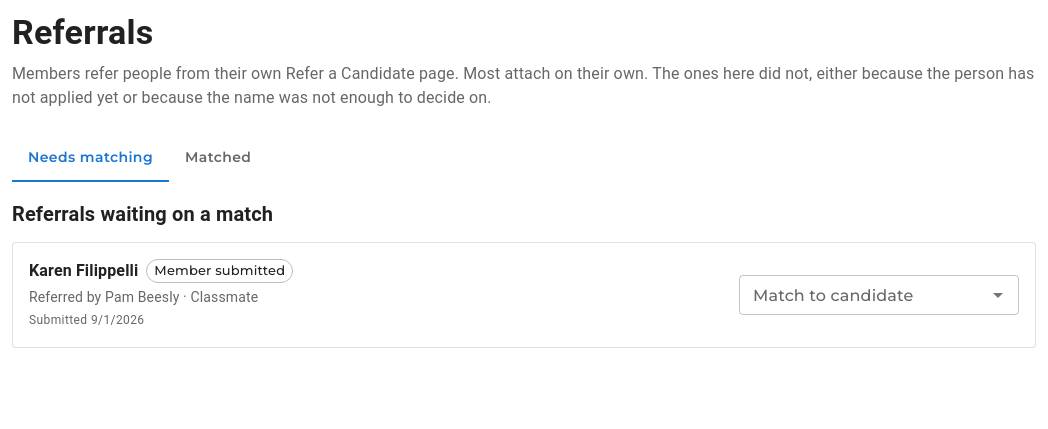
AdminReferrals › surfaces a failed match instead of pretending it worked
The width and height of the screenshot is (1048, 429).
Expected: the text "Karen Filippelli" is shown, 29,259 -> 138,283
Type "kar" into the dropdown labelled "Match to candidate" at {"x": 862, "y": 295}, box 745,281 -> 980,309
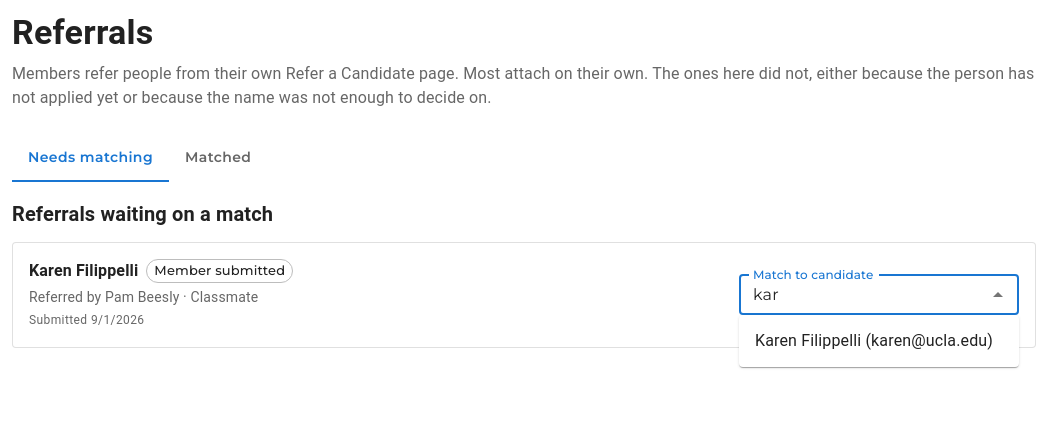
Click the option "Karen Filippelli (karen@ucla.edu)" at {"x": 874, "y": 340}, box 755,331 -> 993,350
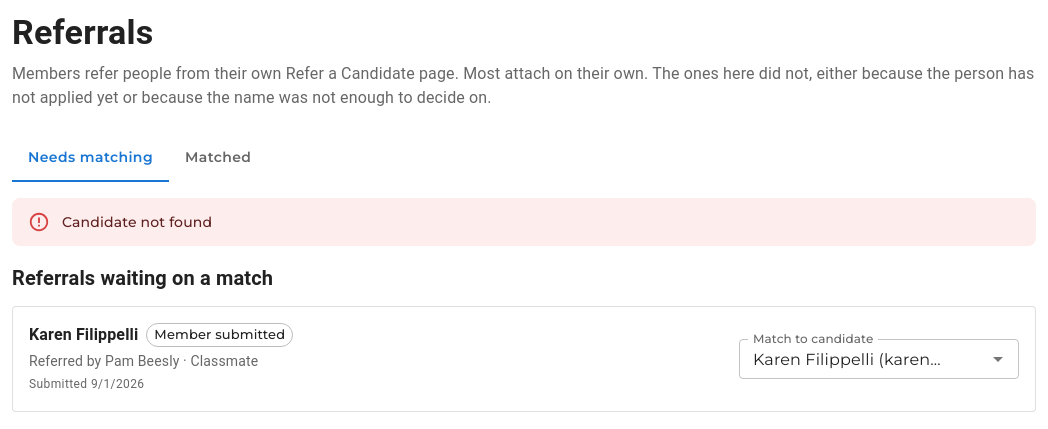
Expected: the text "Candidate not found" is shown, 62,213 -> 212,231
